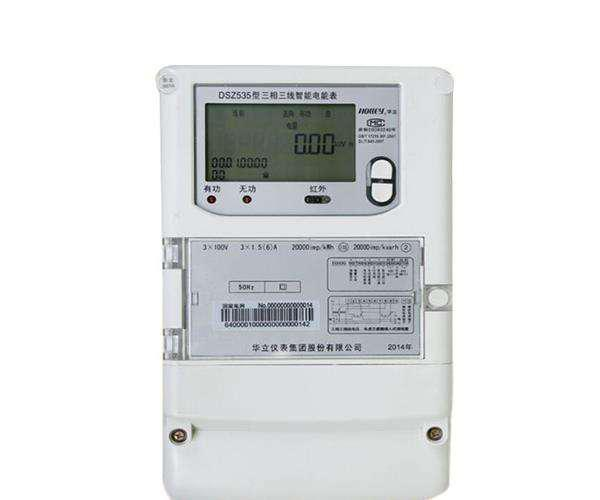digital: (159, 64, 448, 500)
